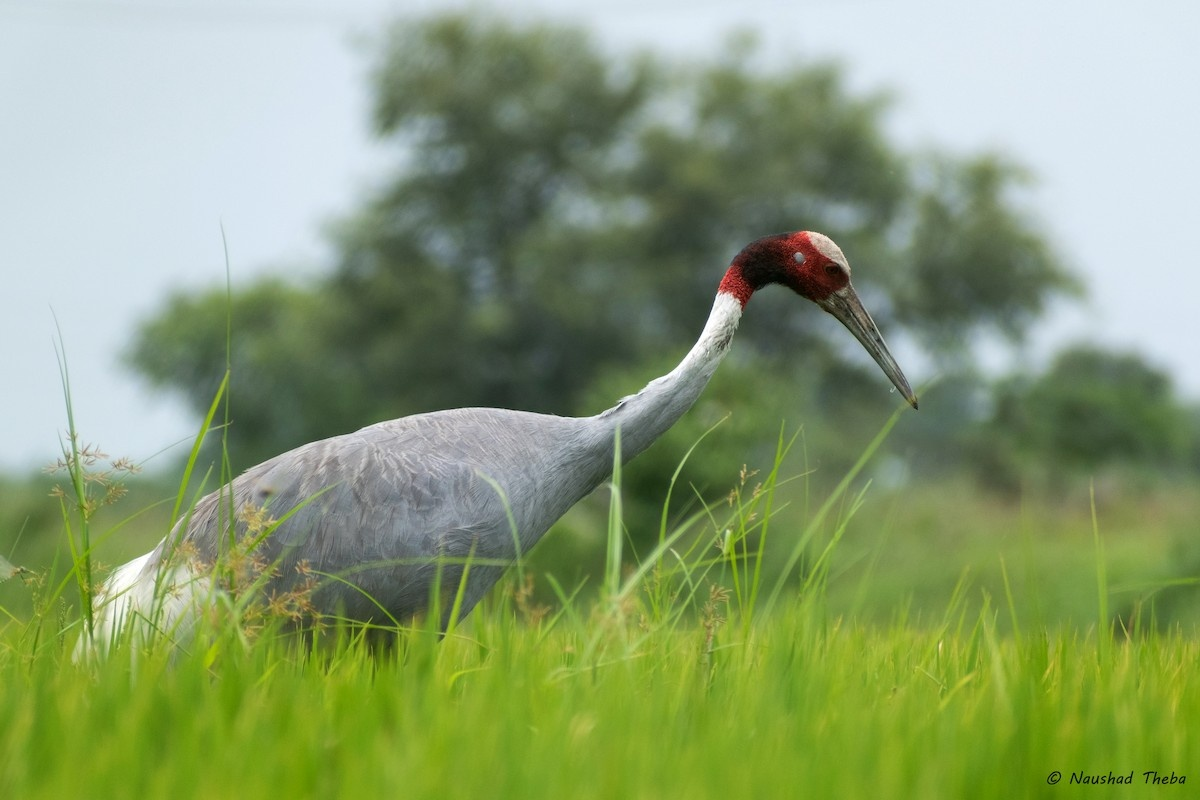crane: (86, 218, 945, 668)
